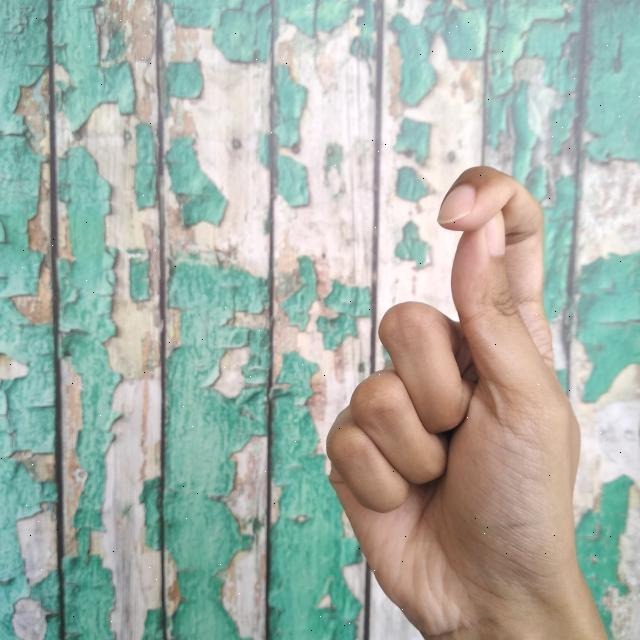X: (317, 159, 640, 640)
